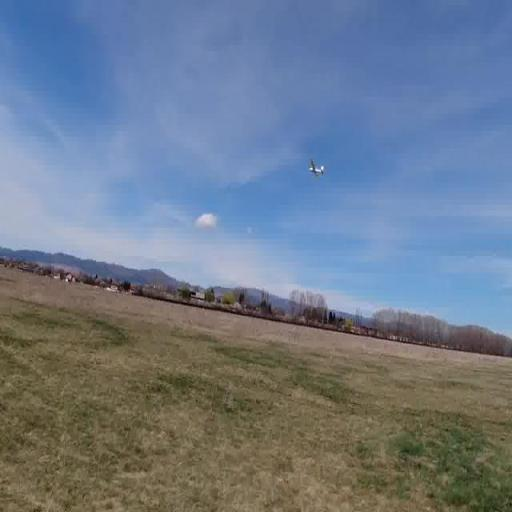uav: (304, 150, 326, 185)
